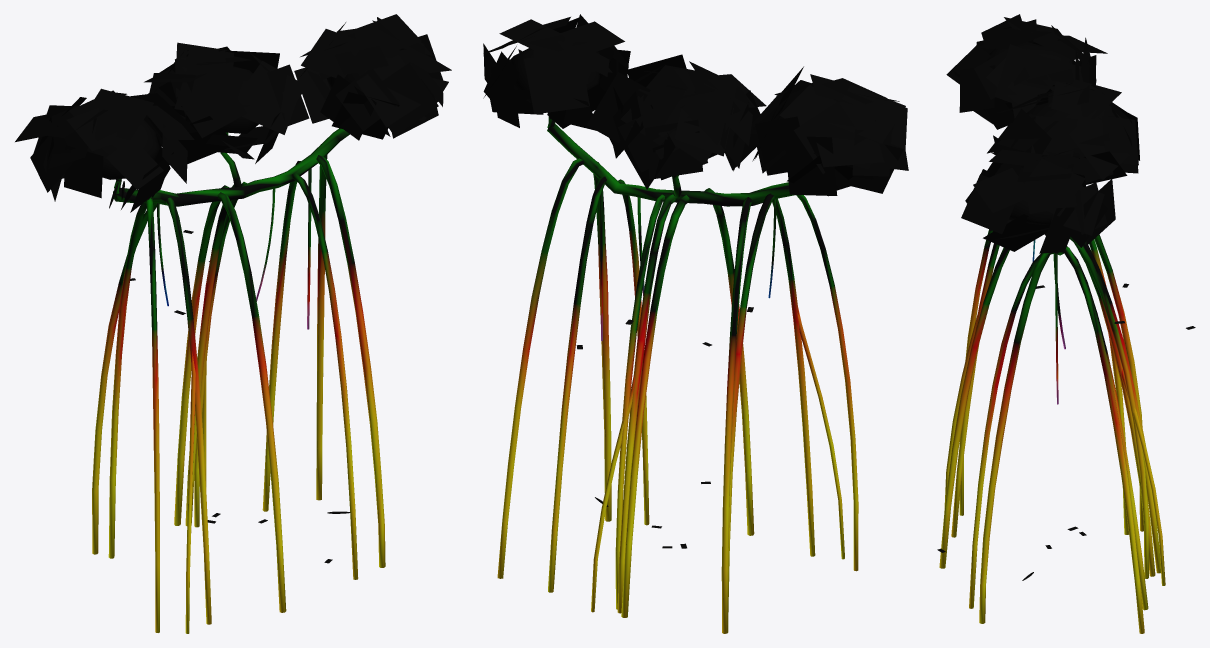
The model's file is mangrove_roots_b.glb.
3 renders of one model, left to right at view 1: azimuth 30°, elevation 25°; view 2: azimuth 150°, elevation 25°; view 3: azimuth 270°, elevation 25°, orthographic. The views are drawn at different scales.
Visible parts, largest first — view 1: mangrove_roots_b; view 2: mangrove_roots_b; view 3: mangrove_roots_b.
Part boxes in pixels (x1,y1,x2,y2): mangrove_roots_b: (15, 14, 451, 633); mangrove_roots_b: (483, 14, 908, 633); mangrove_roots_b: (937, 14, 1195, 633).
Bounding box in the file's own units: 5.52 × 6.57 × 3.19.
